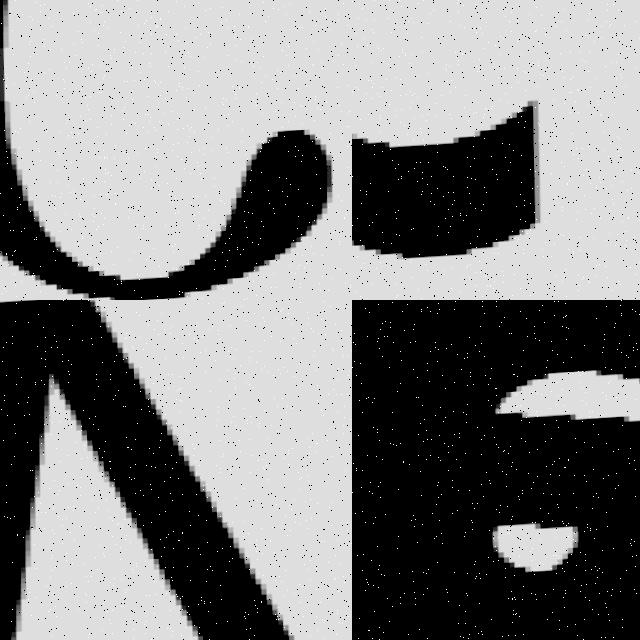E: (352, 300, 640, 640)
R: (352, 0, 554, 286)
V: (0, 300, 352, 640)
